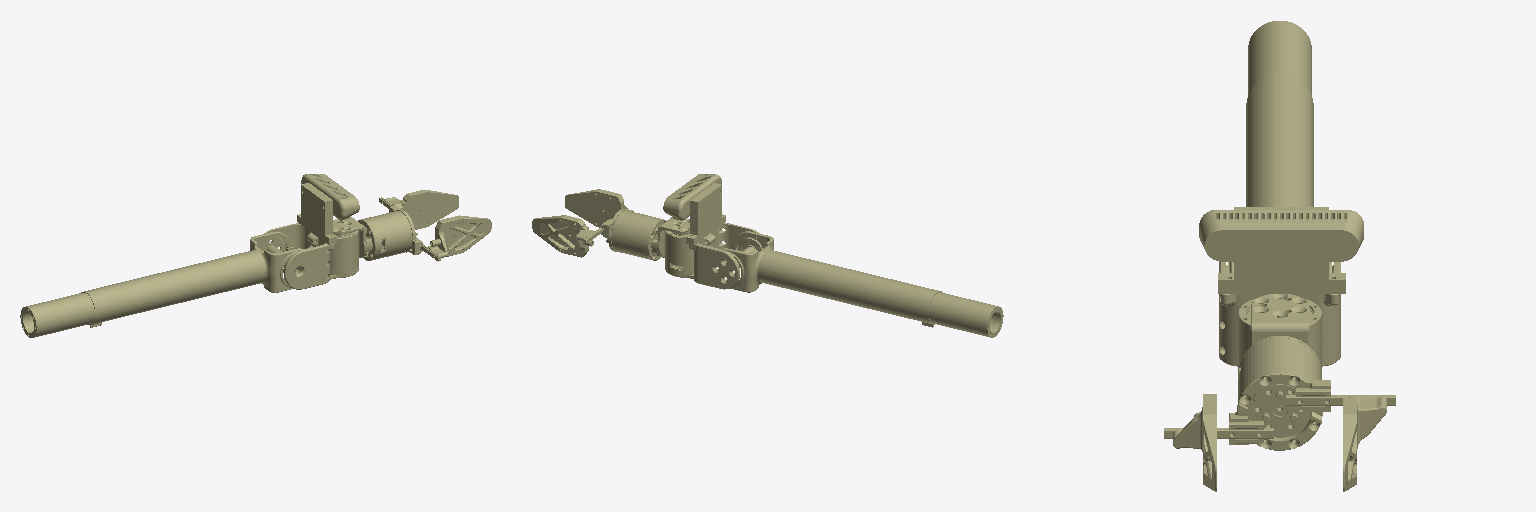
The robot description file, URDF, robot "ForteME_urdf":
<?xml version="1.0" ?>
<!-- Generated using onshape-to-robot -->
<!-- Onshape https://cad.onshape.com/documents/8825e1f4b4a669b255403429/w/e931ea6d417c9de7ecbcb543/e/262dd6380d13ba97275343b4 -->
<robot name="ForteME_urdf">
  <mujoco>
    <!-- Retain CAD visuals for camera observations; viewer groups select what is shown. -->
    <compiler discardvisual="false"/>
  </mujoco>

  <!-- base link -->
  <link name="base_link">
    <inertial>
      <origin xyz="-0.07084 0.00076 0.02432" rpy="0 0 0"/>
      <mass value="0.928"/>
      <inertia ixx="0.001460584" ixy="0.000060159" ixz="0.000568592" iyy="0.005820886" iyz="0.000014857" izz="0.006204943"/>
    </inertial>
    <visual>
      <origin xyz="0 0 0" rpy="0 0 0"/>
      <geometry>
        <mesh filename="base_link.stl"/>
      </geometry>
      <material name="torso_parts_material">
        <color rgba="0.723666 0.709829 0.56081 1"/>
      </material>
    </visual>
    <collision name="base_front_plate">
      <origin xyz="-0.0025 0 0.0045" rpy="0 0 0"/>
      <geometry>
        <box size="0.112 0.180 0.009"/>
      </geometry>
    </collision>
    <collision name="base_rear_plate">
      <origin xyz="-0.1394 0 0.0045" rpy="0 0 0"/>
      <geometry>
        <box size="0.1618 0.070 0.009"/>
      </geometry>
    </collision>
    <collision name="base_bearing_housing">
      <origin xyz="0 0 0.033" rpy="0 0 0"/>
      <geometry>
        <cylinder radius="0.0387" length="0.048"/>
      </geometry>
    </collision>
    <collision name="base_support_web">
      <origin xyz="-0.0835 0 0.033" rpy="0 0 0"/>
      <geometry>
        <box size="0.090 0.026 0.048"/>
      </geometry>
    </collision>
    <collision name="base_motor_mount">
      <origin xyz="-0.154 0 0.033" rpy="0 0 0"/>
      <geometry>
        <box size="0.055 0.055 0.048"/>
      </geometry>
    </collision>
    <collision name="base_motor_housing">
      <origin xyz="-0.1542 0 0.07175" rpy="0 0 0"/>
      <geometry>
        <cylinder radius="0.0263" length="0.0495"/>
      </geometry>
    </collision>
  </link>

  <!-- Joint 0-->
  <joint name="shoulder_yaw" type="revolute">
    <origin xyz="0 0 0.057000" rpy="0  0.00000000  0.00000000"/>
    <parent link="base_link"/>
    <child link="shoulder_yaw_link"/>
    <axis xyz="0 0 1"/>
    <limit effort="10" velocity="10" lower="-3.141592653589793" upper="3.141592653589793"/>
  </joint>

  <!-- yaw link -->
  <link name="shoulder_yaw_link">
    <inertial>
      <origin xyz="0.00487467 0.01745718 0.04159057" rpy="0 0 0"/>
      <mass value="3.527"/>
      <inertia ixx="0.0234161162" ixy="-0.00055660059" ixz="0.0004345798" iyy="0.016659551" iyz="-0.00390930041" izz="0.0278554148"/>
    </inertial>
    <visual name="shoulder_yaw_visual">
      <origin xyz="0 0 0" rpy="0 0 0"/>
      <geometry>
        <mesh filename="shoulder_yaw_link.stl"/>
      </geometry>
      <material name="torso_parts_material">
        <color rgba="0.723666 0.709829 0.56081 1"/>
      </material>
    </visual>
    <!-- External yaw housings use separate convex pieces; internal bearing shaft is omitted. -->
    <collision name="shoulder_yaw_disk">
      <origin xyz="0 0 0.0255" rpy="0 0 0"/>
      <geometry>
        <cylinder radius="0.125" length="0.049"/>
      </geometry>
    </collision>
    <collision name="shoulder_yaw_front_support">
      <origin xyz="0 -0.0618 0.081" rpy="0 0 0"/>
      <geometry>
        <box size="0.0836 0.0164 0.062"/>
      </geometry>
    </collision>
    <collision name="shoulder_yaw_front_housing">
      <origin xyz="0 -0.0618 0.112" rpy="1.5707963267948966 0 0"/>
      <geometry>
        <cylinder radius="0.0418" length="0.0164"/>
      </geometry>
    </collision>
    <collision name="shoulder_yaw_rear_housing">
      <origin xyz="0 0.1055 0.1185" rpy="0 0 0"/>
      <geometry>
        <box size="0.150 0.049 0.137"/>
      </geometry>
    </collision>
    <collision name="shoulder_yaw_motor_housing">
      <origin xyz="-0.00075 0.11775 0.112" rpy="1.5707963267948966 0 0"/>
      <geometry>
        <cylinder radius="0.0425" length="0.0505"/>
      </geometry>
    </collision>
  </link>

  <!-- Joint 1-->
  <joint name="shoulder_pitch" type="revolute">
    <origin xyz="0 -0.0700000 0.11200000" rpy="0 0 0"/>
    <parent link="shoulder_yaw_link"/>
    <child link="shoulder_pitch_link"/>
    <axis xyz="0 1 0"/>
    <limit effort="10" velocity="10" lower="-3.141592653589793" upper="0"/>
  </joint>

  <!-- shoulder pitch link -->
  <link name="shoulder_pitch_link">
    <inertial>
      <origin xyz="0.01542122 0.09102398 -0.00016758" rpy="0 0 0"/>
      <mass value="0.63710768"/>
      <inertia ixx="0.00171773582" ixy="-0.00068434352" ixz="0.00000172962" iyy="0.00160340319" iyz="-0.00000078114" izz="0.00264455968"/>
    </inertial>
    <visual name="shoulder_pitch_visual">
      <origin xyz="0 0 0" rpy="0 0 0"/>
      <geometry>
        <mesh filename="shoulder_pitch_link.stl"/>
      </geometry>
      <material name="torso_parts_material">
        <color rgba="0.723666 0.709829 0.56081 1"/>
      </material>
    </visual>
    <!-- Convex primitives for the pitch pivot, roll housing, and rear support. -->
    <collision name="shoulder_pitch_pivot">
      <origin xyz="0 0.0115 0" rpy="1.5707963267948966 0 0"/>
      <geometry>
        <cylinder radius="0.026" length="0.030"/>
      </geometry>
    </collision>
    <collision name="shoulder_pitch_roll_housing">
      <origin xyz="-0.01675 0.070 0" rpy="0 1.5707963267948966 0"/>
      <geometry>
        <cylinder radius="0.0461" length="0.0635"/>
      </geometry>
    </collision>
    <collision name="shoulder_pitch_rear_bracket">
      <origin xyz="0.0055 0.1355 0" rpy="0 0 0"/>
      <geometry>
        <box size="0.085 0.051 0.090"/>
      </geometry>
    </collision>
    <collision name="shoulder_pitch_motor_support">
      <origin xyz="0.0981 0.13615 0" rpy="0 0 0"/>
      <geometry>
        <box size="0.1002 0.0293 0.090"/>
      </geometry>
    </collision>
  </link>

    <!-- Joint 2-->
  <joint name="shoulder_roll" type="revolute">
    <origin xyz="0.00200000 0.07000000 0" rpy="0 0 0"/>
    <parent link="shoulder_pitch_link"/>
    <child link="upper_arm_link"/>
    <axis xyz="1 0 0"/>
    <limit effort="10" velocity="10" lower="-3.141592653589793" upper="3.141592653589793"/>
  </joint>

  <!-- upper arm link -->
  <link name="upper_arm_link">
    <inertial>
      <origin xyz="0.1430512 -0.00011099 0.00002978" rpy="0 0 0"/>
      <mass value="0.88989758"/>
      <inertia ixx="0.000752380" ixy="-0.000189569" ixz="0.000014411" iyy="0.010448888" iyz="-0.000000976" izz="0.010401475"/>
    </inertial>
    <visual>
      <origin xyz="0 0 0" rpy="0 0 0"/>
      <geometry>
        <mesh filename="upper_arm_link.stl"/>
      </geometry>
      <material name="torso_parts_material">
        <color rgba="0.723666 0.709829 0.56081 1"/>
      </material>
    </visual>
    <!-- Convex primitives follow the changing beam section and round housings. -->
    <collision name="upper_arm_roll_collar">
      <origin xyz="0.01375 0 0" rpy="0 1.5707963267948966 0"/>
      <geometry>
        <cylinder radius="0.0385" length="0.0275"/>
      </geometry>
    </collision>
    <collision name="upper_arm_proximal_beam">
      <origin xyz="0.09975 0 0" rpy="0 0 0"/>
      <geometry>
        <box size="0.1445 0.059 0.060"/>
      </geometry>
    </collision>
    <collision name="upper_arm_motor_housing">
      <origin xyz="0.10825 0 0" rpy="1.5707963267948966 0 0"/>
      <geometry>
        <cylinder radius="0.047" length="0.059"/>
      </geometry>
    </collision>
    <collision name="upper_arm_beam">
      <origin xyz="0.221 0 0" rpy="0 0 0"/>
      <geometry>
        <box size="0.098 0.039 0.052"/>
      </geometry>
    </collision>
    <collision name="upper_arm_distal_sleeve">
      <origin xyz="0.280 0 0" rpy="0 0 0"/>
      <geometry>
        <box size="0.020 0.059 0.052"/>
      </geometry>
    </collision>
    <collision name="upper_arm_elbow_bridge">
      <origin xyz="0.3165 0.00325 0" rpy="0 0 0"/>
      <geometry>
        <box size="0.053 0.0755 0.064"/>
      </geometry>
    </collision>
    <collision name="upper_arm_elbow_housing">
      <origin xyz="0.358 0.00325 0" rpy="1.5707963267948966 0 0"/>
      <geometry>
        <cylinder radius="0.0355" length="0.0755"/>
      </geometry>
    </collision>
  </link>

  <!-- Joint 3-->
  <joint name="elbow_pitch" type="revolute">
    <origin xyz="0.358 -0.03450000 0" rpy="0 0 0"/>
    <parent link="upper_arm_link"/>
    <child link="elbow_link"/>
    <axis xyz="0 1 0"/>
    <limit effort="10" velocity="10" lower="-1.85" upper="2.3"/>
  </joint>

  <!-- elbow link -->
  <link name="elbow_link">
    <inertial>
      <origin xyz="0.0285766 0.03343643 0.01777022" rpy="0 0 0"/>
      <mass value="0.4971369"/>
      <inertia ixx="0.000536470" ixy="-0.000000966" ixz="-0.000014985" iyy="0.001446627" iyz="-0.000000586" izz="0.001214394"/>
    </inertial>
    <visual>
      <origin xyz="0 0 0" rpy="0 0 0"/>
      <geometry>
        <mesh filename="elbow_link.stl"/>
      </geometry>
      <material name="torso_parts_material">
        <color rgba="0.723666 0.709829 0.56081 1"/>
      </material>
    </visual>
    <!-- Convex motor housings, pivot carrier, roll housing, and retaining clip. -->
    <collision name="elbow_lower_motor">
      <origin xyz="-0.0135 0.0335 -0.01" rpy="0 1.5707963267948966 0"/>
      <geometry>
        <cylinder radius="0.0236" length="0.047"/>
      </geometry>
    </collision>
    <collision name="elbow_upper_motor">
      <origin xyz="-0.0135 0.0335 0.05" rpy="0 1.5707963267948966 0"/>
      <geometry>
        <cylinder radius="0.0236" length="0.047"/>
      </geometry>
    </collision>
    <collision name="elbow_pivot_carrier">
      <origin xyz="-0.00225 0.0355 0.02" rpy="0 0 0"/>
      <geometry>
        <box size="0.0455 0.071 0.111"/>
      </geometry>
    </collision>
    <collision name="elbow_roll_housing">
      <origin xyz="0.07025 0.0335 0.02" rpy="0 1.5707963267948966 0"/>
      <geometry>
        <cylinder radius="0.0271" length="0.0995"/>
      </geometry>
    </collision>
    <collision name="elbow_lower_mount">
      <origin xyz="0.0325 0.0335 -0.01" rpy="0 1.5707963267948966 0"/>
      <geometry>
        <cylinder radius="0.021" length="0.045"/>
      </geometry>
    </collision>
    <collision name="elbow_upper_mount">
      <origin xyz="0.0235 0.0335 0.05" rpy="0 1.5707963267948966 0"/>
      <geometry>
        <cylinder radius="0.021" length="0.027"/>
      </geometry>
    </collision>
    <collision name="elbow_retaining_clip">
      <origin xyz="0.11175 0.0335 -0.00625" rpy="0 0 0"/>
      <geometry>
        <box size="0.0165 0.017 0.0065"/>
      </geometry>
    </collision>
  </link>

      <!-- Joint 4-->
  <joint name="lower_arm_roll" type="revolute">
    <origin xyz="0.1180000 0.03350000 0.02000000" rpy="0 0 0"/>
    <parent link="elbow_link"/>
    <child link="lower_arm_link"/>
    <axis xyz="1 0 0"/>
    <limit effort="10" velocity="10" lower="-3.141592653589793" upper="3.141592653589793"/>
  </joint>

  <!-- lower arm link -->
  <link name="lower_arm_link">
    <inertial>
      <origin xyz="0.08883208 0.00003267 -0.00004893" rpy="0 0 0"/>
      <mass value="0.50695188"/>
      <inertia ixx="0.000141158" ixy="-0.000003051" ixz="-0.000001245" iyy="0.004070741" iyz="0.000000036" izz="0.004082664"/>
    </inertial>
    <visual>
      <origin xyz="0 0 0" rpy="0 0 0"/>
      <geometry>
        <mesh filename="lower_arm_link.stl"/>
      </geometry>
      <material name="torso_parts_material">
        <color rgba="0.723666 0.709829 0.56081 1"/>
      </material>
    </visual>
    <!-- Round forearm shaft with separate wrist fork plates to preserve the opening. -->
    <collision name="lower_arm_shaft">
      <origin xyz="0.06585 0.0 0.0" rpy="0 1.5707963267948966 0"/>
      <geometry>
        <cylinder radius="0.0185" length="0.2777"/>
      </geometry>
    </collision>
    <collision name="lower_arm_shaft_clip">
      <origin xyz="0.00925 0.0 -0.01875" rpy="0 0 0"/>
      <geometry>
        <box size="0.0165 0.0167 0.0045"/>
      </geometry>
    </collision>
    <collision name="lower_arm_wrist_bridge">
      <origin xyz="0.213 0.0 0.0" rpy="0 0 0"/>
      <geometry>
        <box size="0.0166 0.057 0.046"/>
      </geometry>
    </collision>
    <collision name="lower_arm_wrist_front_plate">
      <origin xyz="0.24675 -0.02425 0.0" rpy="0 0 0"/>
      <geometry>
        <box size="0.0535 0.0085 0.046"/>
      </geometry>
    </collision>
    <collision name="lower_arm_wrist_rear_plate">
      <origin xyz="0.24675 0.02425 0.0" rpy="0 0 0"/>
      <geometry>
        <box size="0.0535 0.0085 0.046"/>
      </geometry>
    </collision>
  </link>

  <!-- Joint 5-->
  <joint name="wrist_pitch" type="revolute">
    <origin xyz="0.24700000 -0.02850000 0" rpy="0 0 0"/>
    <parent link="lower_arm_link"/>
    <child link="wrist_link"/>
    <axis xyz="0 1 0"/>
    <limit effort="10" velocity="10" lower="-1.73" upper="1.6"/>
  </joint>

  <!-- wrist link -->
  <link name="wrist_link">
    <inertial>
      <origin xyz="0.04664046 0.02874931 0.02295525" rpy="0 0 0"/>
      <mass value="0.35003968"/>
      <inertia ixx="0.000532733" ixy="-0.000006949" ixz="-0.000064809" iyy="0.000570488" iyz="-0.000005933" izz="0.000362400"/>
    </inertial>
    <visual>
      <origin xyz="0 0 0" rpy="0 0 0"/>
      <geometry>
        <mesh filename="wrist_link.stl"/>
      </geometry>
      <material name="torso_parts_material">
        <color rgba="0.723666 0.709829 0.56081 1"/>
      </material>
    </visual>
    <!-- Separate hinge plates preserve the opening; convex pieces cover the shaft and housings. -->
    <collision name="wrist_front_hinge_plate">
      <origin xyz="0.01425 0.00025 0.0" rpy="0 0 0"/>
      <geometry>
        <box size="0.0645 0.0105 0.046"/>
      </geometry>
    </collision>
    <collision name="wrist_rear_hinge_plate">
      <origin xyz="0.01425 0.05675 0.0" rpy="0 0 0"/>
      <geometry>
        <box size="0.0645 0.0105 0.046"/>
      </geometry>
    </collision>
    <collision name="wrist_pivot_shaft">
      <origin xyz="0.0 0.0285 0.0" rpy="1.5707963267948966 0 0"/>
      <geometry>
        <cylinder radius="0.0061" length="0.067"/>
      </geometry>
    </collision>
    <collision name="wrist_motor_housing">
      <origin xyz="0.067 0.0285 0.0005" rpy="0 0 0"/>
      <geometry>
        <cylinder radius="0.0236" length="0.047"/>
      </geometry>
    </collision>
    <collision name="wrist_bottom_support">
      <origin xyz="0.06 0.0295 -0.025" rpy="0 0 0"/>
      <geometry>
        <box size="0.06 0.07 0.004"/>
      </geometry>
    </collision>
    <!-- Camera enclosure. -->
    <collision name="wrist_upper_housing">
      <origin xyz="0.0535 0.0295 0.0492" rpy="0 0 0"/>
      <geometry>
        <box size="0.034 0.0908 0.0524"/>
      </geometry>
    </collision>
    <collision name="wrist_motor_bracket">
      <origin xyz="0.04025 0.0285 0.0" rpy="0 0 0"/>
      <geometry>
        <box size="0.0145 0.046 0.046"/>
      </geometry>
    </collision>
  </link>

  <!-- Joint 6-->
  <joint name="wrist_to_gripper" type="fixed">
    <origin xyz="0.06700000 0.02850000 0.02100000" rpy="0 0 0"/>
    <parent link="wrist_link"/>
    <child link="gripper_base_link"/>
    <limit effort="10" velocity="10" lower="-3.141592653589793" upper="3.141592653589793"/>
  </joint>

  <!-- gripper base link -->
  <link name="gripper_base_link">
    <inertial>
      <origin xyz="0.05547839 -0.00007849 -0.01894085" rpy="0 0 0"/>
      <mass value="0.14410003"/>
      <inertia ixx="0.00005262977" ixy="-0.00000009226" ixz="0.00001382473" iyy="0.00011698108" iyz="-0.00000357093" izz="0.00011748244"/>    
    </inertial>
    <visual>
      <origin xyz="0 0 0" rpy="0 0 0"/>
      <geometry>
        <mesh filename="gripper_base_link.stl"/>
      </geometry>
      <material name="torso_parts_material">
        <color rgba="0.723666 0.709829 0.56081 1"/>
      </material>
    </visual>
    <!-- Separate convex adapter, motor housing, backplate, and finger guides. -->
    <collision name="gripper_mounting_plate">
      <origin xyz="0.00525 0.0 0.00225" rpy="0 0 0"/>
      <geometry>
        <box size="0.0425 0.035 0.0045"/>
      </geometry>
    </collision>
    <collision name="gripper_mounting_adapter">
      <origin xyz="0.02425 0.0 -0.01925" rpy="0 0 0"/>
      <geometry>
        <box size="0.0185 0.035 0.0385"/>
      </geometry>
    </collision>
    <collision name="gripper_motor_housing">
      <origin xyz="0.055 0.0 -0.021" rpy="0 1.5707963267948966 0"/>
      <geometry>
        <cylinder radius="0.0236" length="0.057"/>
      </geometry>
    </collision>
    <collision name="gripper_guide_backplate">
      <origin xyz="0.0844 0.0 -0.020995" rpy="0 0 0"/>
      <geometry>
        <box size="0.0078 0.056 0.047"/>
      </geometry>
    </collision>
    <collision name="gripper_left_guide">
      <origin xyz="0.0886 -0.0185 -0.031" rpy="0 0 0"/>
      <geometry>
        <box size="0.005 0.019 0.012"/>
      </geometry>
    </collision>
    <collision name="gripper_right_guide">
      <origin xyz="0.0886 0.0185 -0.011" rpy="0 0 0"/>
      <geometry>
        <box size="0.005 0.019 0.012"/>
      </geometry>
    </collision>
  </link>

  <!-- Joint 7-->
  <joint name="l_gripper_linear_joint" type="prismatic">
    <origin xyz="0.08840000 -0.01850000 -0.03100000" rpy="0 0 1.5707963267948966"/>
    <parent link="gripper_base_link"/>
    <child link="l_end_effector_link"/>
    <axis xyz="1 0 0"/>
    <limit effort="10" velocity="0.1" lower="-0.02" upper="0.03"/>
  </joint>

  <!-- left gripper link -->
  <link name="l_end_effector_link">
    <inertial>
      <origin xyz="-0.01974555 -0.02969483 0.00780606" rpy="0 0 -1.5707963267948966"/>
      <mass value="0.04826781"/>
      <inertia ixx="8.90704e-06" ixy="-5.13890e-07" ixz="-2.75196e-06" iyy="2.662607e-05" iyz="-5.04000e-09" izz="2.429253e-05"/>
    </inertial>
    <visual>
      <origin xyz="0 0 0" rpy="0 0 -1.5707963267948966"/>
      <geometry>
        <mesh filename="l_end_effector_link.stl"/>
      </geometry>
      <material name="torso_parts_material">
        <color rgba="0.723666 0.709829 0.56081 1"/>
      </material>
    </visual>
    <!-- Separate slider and finger pieces preserve the grasping face and root clearance. -->
    <collision name="l_finger_slider_plate">
      <origin xyz="-0.015 -0.00185 0.0" rpy="0 0 -1.5707963267948966"/>
      <geometry>
        <box size="0.0037 0.06 0.006"/>
      </geometry>
    </collision>
    <collision name="l_finger_root_attachment">
      <origin xyz="-0.02825 -0.0071 0.00525" rpy="0 0 -1.5707963267948966"/>
      <geometry>
        <box size="0.007 0.0245 0.0165"/>
      </geometry>
    </collision>
    <collision name="l_finger_mount_transition">
      <origin xyz="-0.02825 -0.0153 0.01" rpy="0 0 -1.5707963267948966"/>
      <geometry>
        <box size="0.0094 0.0245 0.042"/>
      </geometry>
    </collision>
    <collision name="l_finger_finger_body">
      <origin xyz="-0.02005 -0.04 0.01" rpy="0 0 -1.5707963267948966"/>
      <geometry>
        <box size="0.04 0.0081 0.042"/>
      </geometry>
    </collision>
    <collision name="l_finger_finger_taper">
      <origin xyz="-0.0188 -0.0675 0.01" rpy="0 0 -1.5707963267948966"/>
      <geometry>
        <box size="0.015 0.0056 0.033"/>
      </geometry>
    </collision>
    <collision name="l_finger_finger_tip">
      <origin xyz="-0.0175 -0.0793 0.01" rpy="0 0 -1.5707963267948966"/>
      <geometry>
        <box size="0.0086 0.003 0.021"/>
      </geometry>
    </collision>
  </link>

    <!-- Joint 8-->
  <joint name="r_gripper_linear_joint" type="prismatic">
    <origin xyz="0.08840000 0.01850000 -0.01100000" rpy="0 0 1.5707963267948966"/>
    <parent link="gripper_base_link"/>
    <child link="r_end_effector_link"/>
    <axis xyz="1 0 0"/>
    <limit effort="10" velocity="0.1" lower="-0.03" upper="0.02"/>
    <!-- Both slider axes point along gripper-base +Y. Opposite travel keeps
         the CAD fingers centered: q_right = -q_left (one gripper input). -->
    <mimic joint="l_gripper_linear_joint" multiplier="-1" offset="0"/>
  </joint>

  <!-- right gripper link -->
  <link name="r_end_effector_link">
  <inertial>
  <origin xyz="0.0300034 0.01332065 -0.01350307" rpy="0 0 0"/>
  <mass value="0.04826781"/>
  <inertia ixx="8.90704e-06" ixy="5.13890e-07" ixz="2.75196e-06" iyy="2.662607e-05" iyz="-5.04000e-09" izz="2.429253e-05"/>
  </inertial>
  <visual>
      <origin xyz="0 0 0" rpy="0 0 -1.5707963267948966"/>
      <geometry>
        <mesh filename="r_end_effector_link.stl"/>
      </geometry>
      <material name="torso_parts_material">
        <color rgba="0.723666 0.709829 0.56081 1"/>
      </material>
    </visual>
    <!-- Separate slider and finger pieces preserve the grasping face and root clearance. -->
    <collision name="r_finger_slider_plate">
      <origin xyz="0.015 -0.00185 0.0" rpy="0 0 -1.5707963267948966"/>
      <geometry>
        <box size="0.0037 0.06 0.006"/>
      </geometry>
    </collision>
    <collision name="r_finger_root_attachment">
      <origin xyz="0.02825 -0.0071 -0.00525" rpy="0 0 -1.5707963267948966"/>
      <geometry>
        <box size="0.007 0.0245 0.0165"/>
      </geometry>
    </collision>
    <collision name="r_finger_mount_transition">
      <origin xyz="0.02825 -0.0153 -0.01" rpy="0 0 -1.5707963267948966"/>
      <geometry>
        <box size="0.0094 0.0245 0.042"/>
      </geometry>
    </collision>
    <collision name="r_finger_finger_body">
      <origin xyz="0.02005 -0.04 -0.01" rpy="0 0 -1.5707963267948966"/>
      <geometry>
        <box size="0.04 0.0081 0.042"/>
      </geometry>
    </collision>
    <collision name="r_finger_finger_taper">
      <origin xyz="0.0188 -0.0675 -0.01" rpy="0 0 -1.5707963267948966"/>
      <geometry>
        <box size="0.015 0.0056 0.033"/>
      </geometry>
    </collision>
    <collision name="r_finger_finger_tip">
      <origin xyz="0.0175 -0.0793 -0.01" rpy="0 0 -1.5707963267948966"/>
      <geometry>
        <box size="0.0086 0.003 0.021"/>
      </geometry>
    </collision>
  </link>
</robot>

--- What the picture shows (computed from the rendered views, not written in the file) ---
3 views of the same robot in one strip: view 1: azimuth 30°, elevation 25°; view 2: azimuth 150°, elevation 25°; view 3: azimuth 270°, elevation 25° (orthographic).
Robot: ForteME_urdf — 10 links, 9 joints (6 revolute, 2 prismatic, 1 fixed); root link base_link; default pose: every joint at zero.
Links seen in each view (by area): view 1: lower_arm_link, wrist_link, gripper_base_link, l_end_effector_link, r_end_effector_link; view 2: lower_arm_link, wrist_link, gripper_base_link, r_end_effector_link, l_end_effector_link; view 3: wrist_link, lower_arm_link, gripper_base_link, r_end_effector_link, l_end_effector_link.
Boxes of the visible links, left/top/right/bottom form: lower_arm_link: left=20, top=232, right=302, bottom=337; wrist_link: left=261, top=174, right=359, bottom=289; gripper_base_link: left=333, top=206, right=422, bottom=260; l_end_effector_link: left=421, top=215, right=491, bottom=261; r_end_effector_link: left=379, top=190, right=458, bottom=229; lower_arm_link: left=721, top=231, right=1003, bottom=337; wrist_link: left=663, top=174, right=762, bottom=289; gripper_base_link: left=601, top=209, right=689, bottom=260; r_end_effector_link: left=532, top=215, right=602, bottom=257; l_end_effector_link: left=565, top=189, right=644, bottom=227; wrist_link: left=1199, top=207, right=1363, bottom=368; lower_arm_link: left=1228, top=21, right=1331, bottom=272; gripper_base_link: left=1229, top=294, right=1330, bottom=450; r_end_effector_link: left=1286, top=395, right=1395, bottom=491; l_end_effector_link: left=1164, top=394, right=1273, bottom=491.
Size in the robot's own frame: 0.559 by 0.127 by 0.1024 metres.
5 mesh visuals loaded from 10 distinct referenced files (5 binary STL); not drawn: 5 (reference not matched to a file when rendering).
